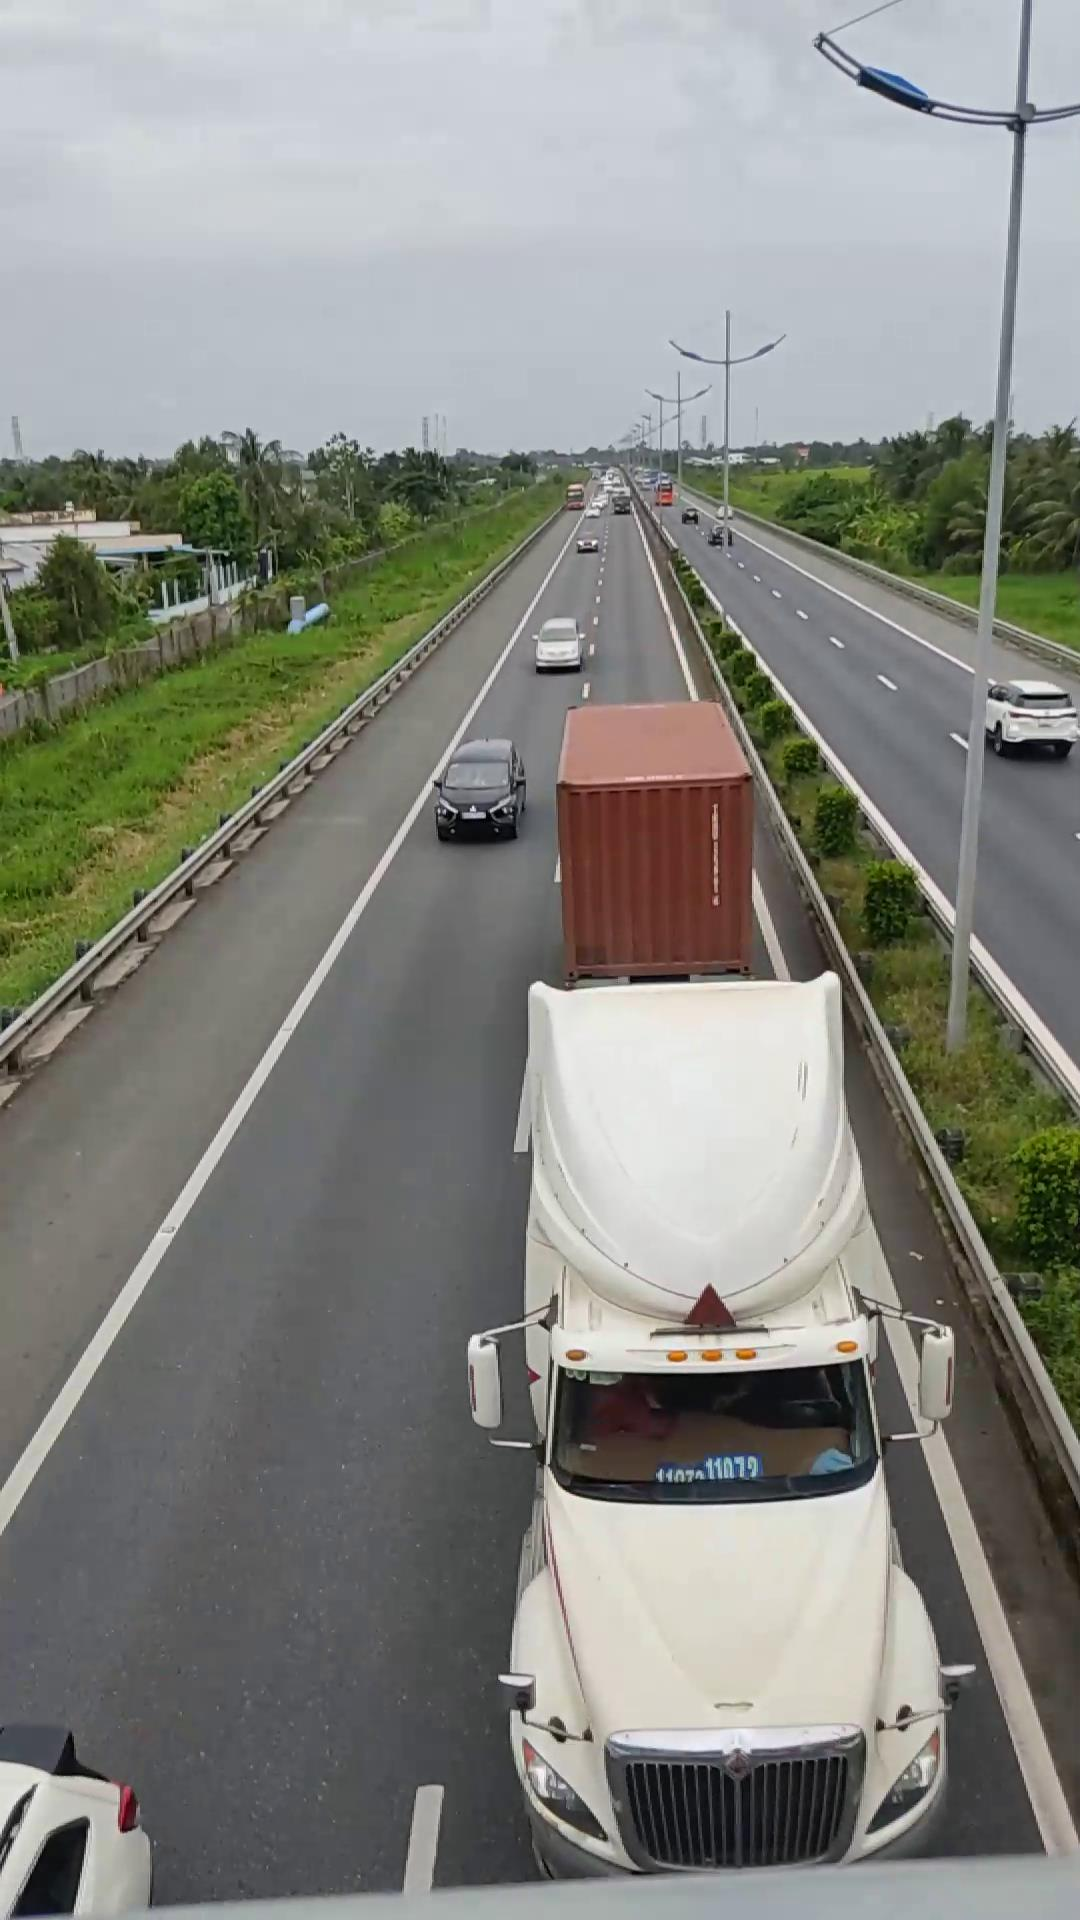car: (0, 1741, 154, 1917), (433, 737, 531, 840), (980, 674, 1077, 758)
container: (497, 702, 953, 1855)
